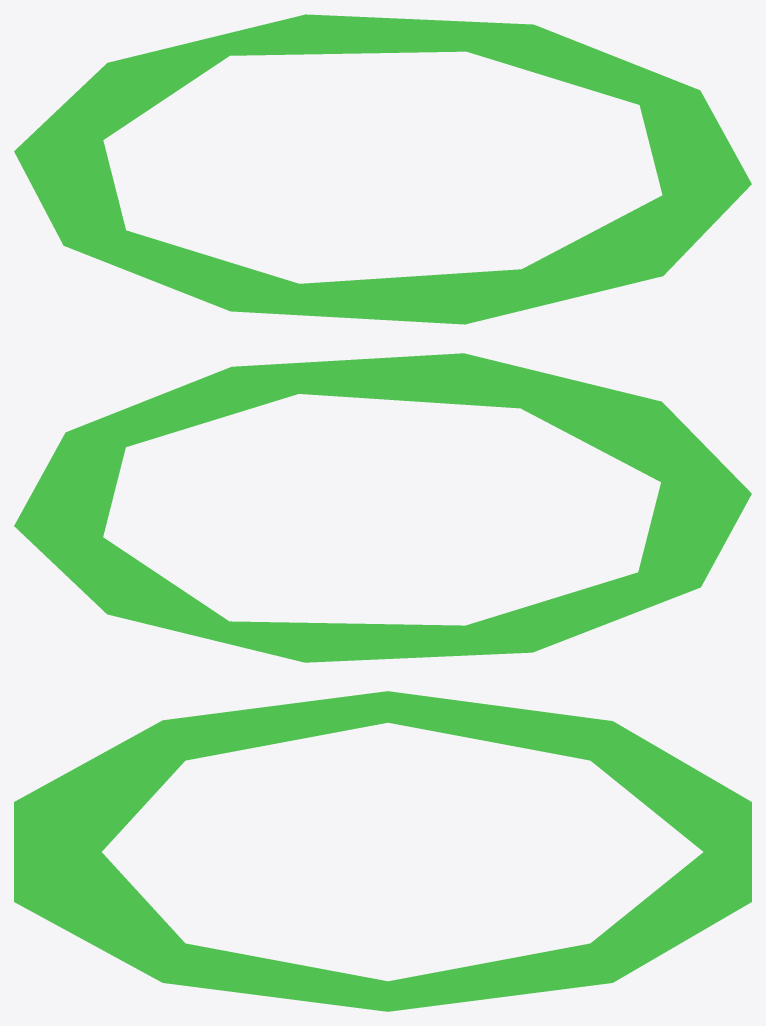
File: dummy_spps2.gltf
3 renders of one model, top to bottom at view 1: azimuth 30°, elevation 25°; view 2: azimuth 150°, elevation 25°; view 3: azimuth 270°, elevation 25°, orthographic. The views are drawn at different scales.
Parts seen in each view (by area): view 1: dummy_spps2; view 2: dummy_spps2; view 3: dummy_spps2.
Part boxes in pixels (x1,y1,x2,y2): dummy_spps2: (14, 14, 751, 324); dummy_spps2: (14, 353, 751, 662); dummy_spps2: (14, 691, 751, 1011).
Size of the model in its own units: 0.6741 by 0 by 0.6555.
